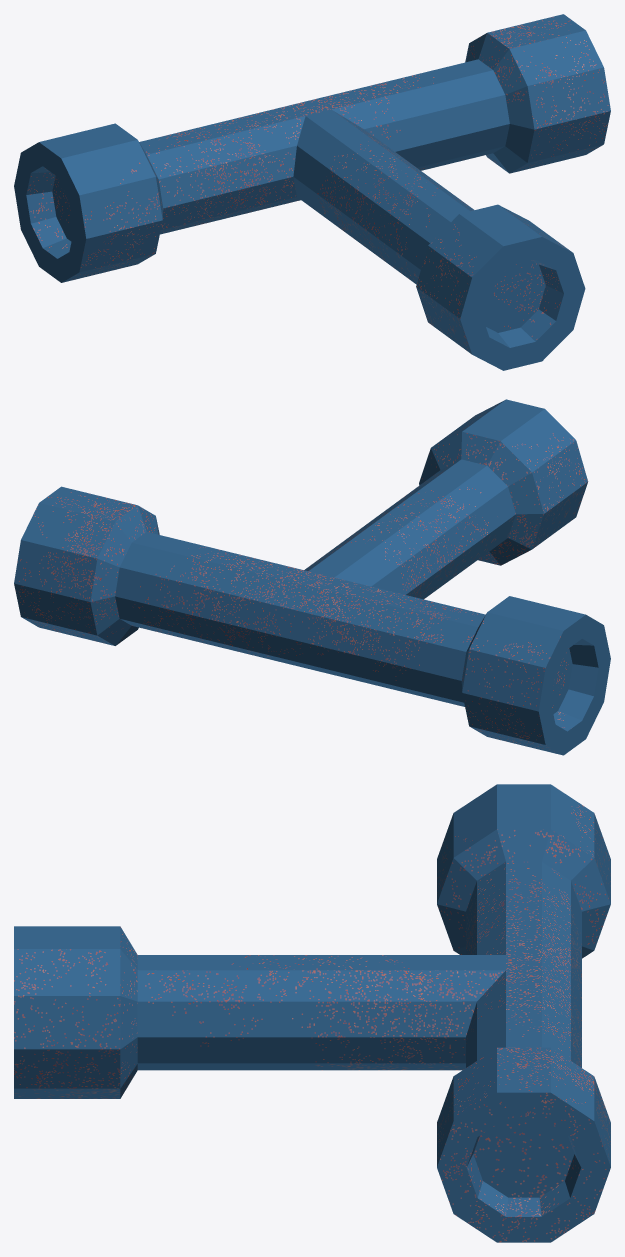
File: T pipe.fbx
The picture shows the model from 3 angles, top to bottom: view 1: azimuth 30°, elevation 25°; view 2: azimuth 150°, elevation 25°; view 3: azimuth 270°, elevation 25°; orthographic projection. The views are drawn at different scales.
Parts seen in each view (by area): view 1: pCylinder7; view 2: pCylinder7; view 3: pCylinder7.
Part boxes in pixels (x1,y1,x2,y2): pCylinder7: (14,14,610,370); pCylinder7: (14,399,610,755); pCylinder7: (14,784,610,1242).
Bounding box in the file's own units: 6.84 × 1.55 × 5.6.
